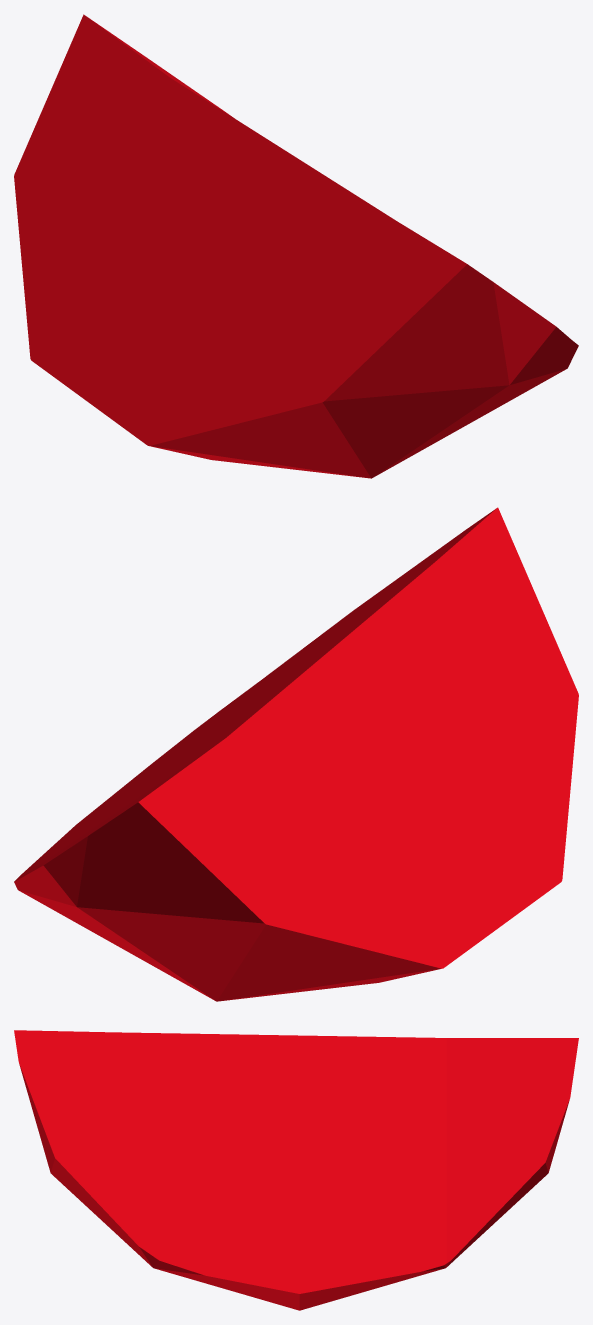
Rendered from tomato_cut_cut.glb.
3 views of the same model, one above another, from view 1: azimuth 30°, elevation 25°; view 2: azimuth 150°, elevation 25°; view 3: azimuth 270°, elevation 25° (orthographic). The views are drawn at different scales.
Parts seen in each view (by area): view 1: tomato_cut_cut; view 2: tomato_cut_cut; view 3: tomato_cut_cut.
Boxes of the visible parts, x1,y1,x2,y2 form: tomato_cut_cut: (14, 14, 578, 478); tomato_cut_cut: (14, 507, 578, 1001); tomato_cut_cut: (14, 1030, 578, 1310).
Size of the model in its own units: 0.2051 by 0.1469 by 0.3116.
